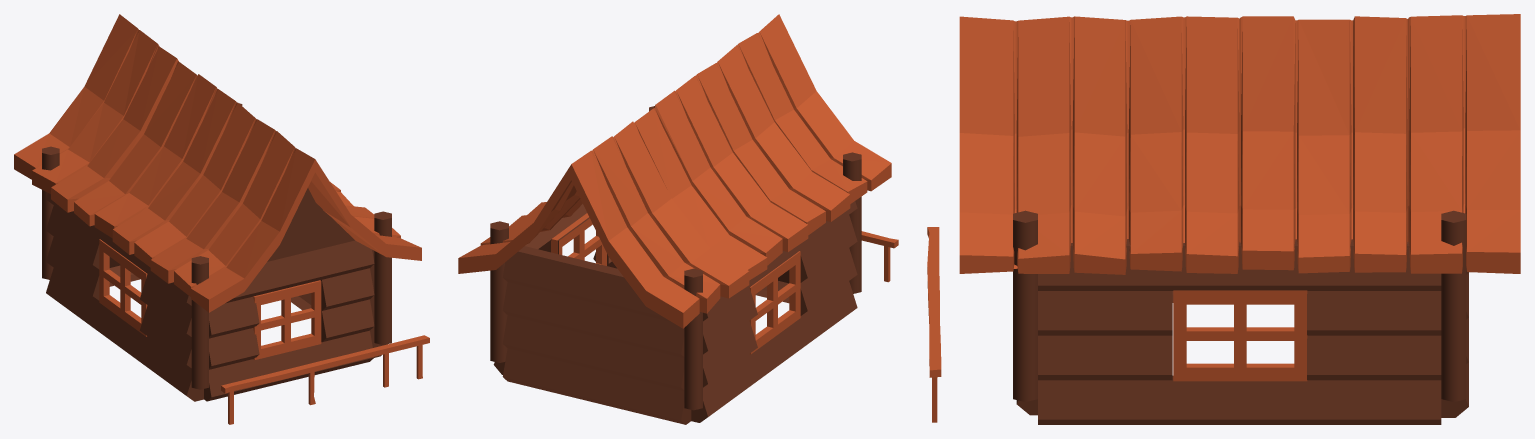
File: CASA MODULO 3.FBX
The picture shows the model from 3 angles, left to right: view 1: azimuth 30°, elevation 25°; view 2: azimuth 150°, elevation 25°; view 3: azimuth 270°, elevation 25°; orthographic projection. The views are drawn at different scales.
Visible parts, largest first — view 1: piso extra002; view 2: piso extra002; view 3: piso extra002.
Part boxes in pixels (x1,y1,x2,y2): piso extra002: (14, 14, 429, 424); piso extra002: (458, 14, 898, 424); piso extra002: (927, 14, 1520, 424).
Bounding box in the file's own units: 101 × 107 × 166.
